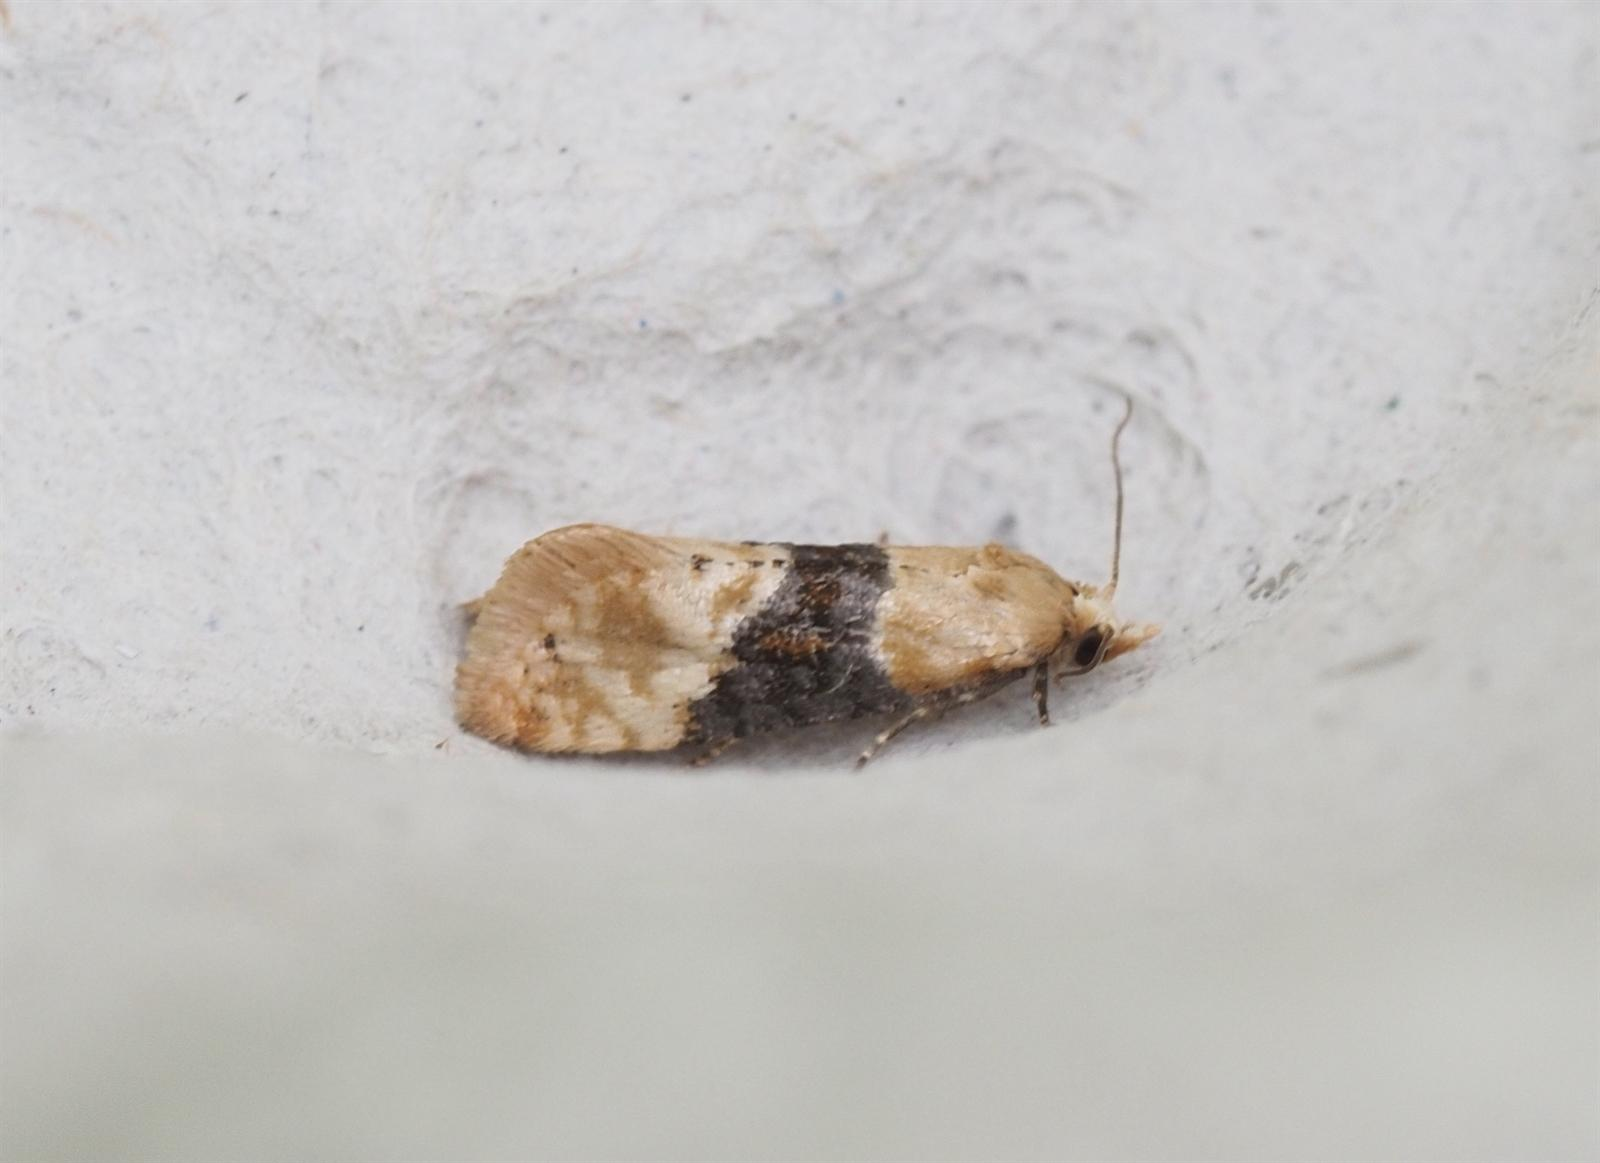Eupoecilia Ambiguella: (446, 390, 1164, 774)
